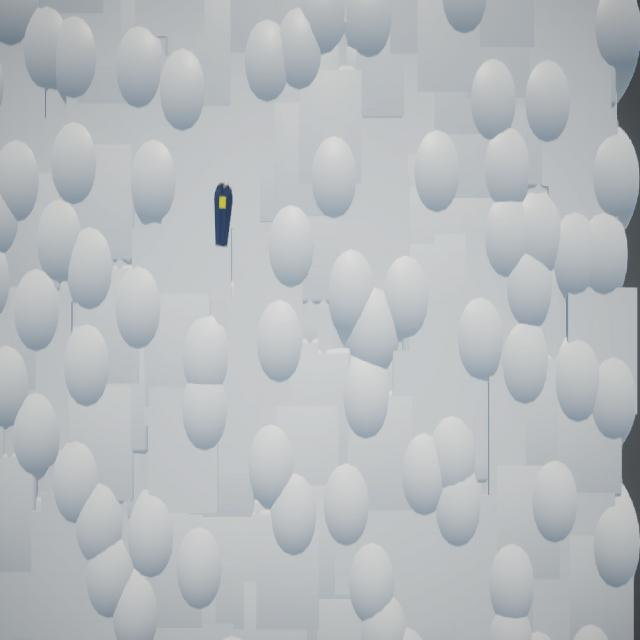handle_folk: (215, 184, 234, 249)
